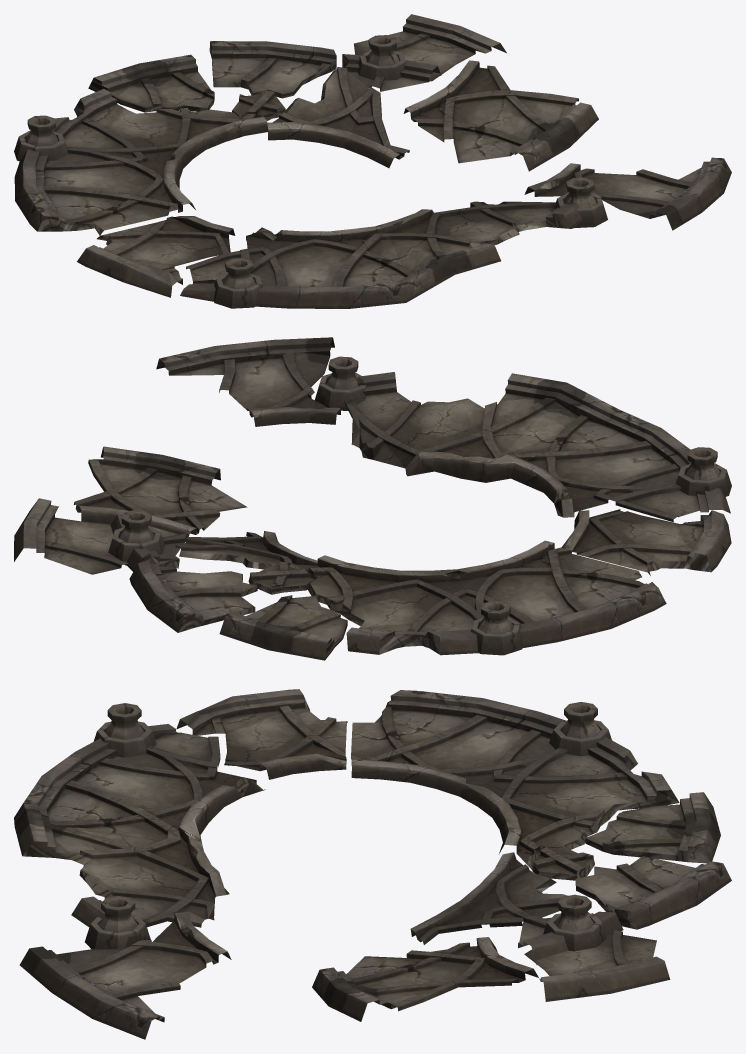
Rendered from mesh_raid3_ruin.FBX.
The picture shows the model from 3 angles, top to bottom: view 1: azimuth 30°, elevation 25°; view 2: azimuth 150°, elevation 25°; view 3: azimuth 270°, elevation 25°; orthographic projection. The views are drawn at different scales.
Parts seen in each view (by area): view 1: mesh_raid3_ruin; view 2: mesh_raid3_ruin; view 3: mesh_raid3_ruin.
Part boxes in pixels (<box>): mesh_raid3_ruin: <box>14,14,731,308</box>; mesh_raid3_ruin: <box>14,337,731,660</box>; mesh_raid3_ruin: <box>14,689,731,1039</box>.
Bounding box in the file's own units: 19.89 × 1.98 × 18.03.
